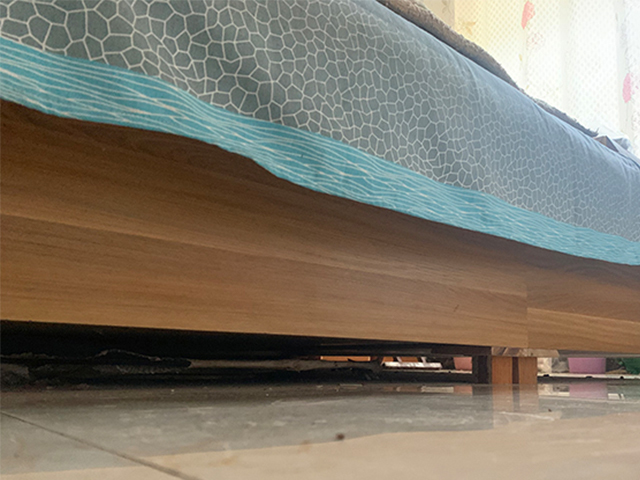bed: (1, 1, 639, 388)
